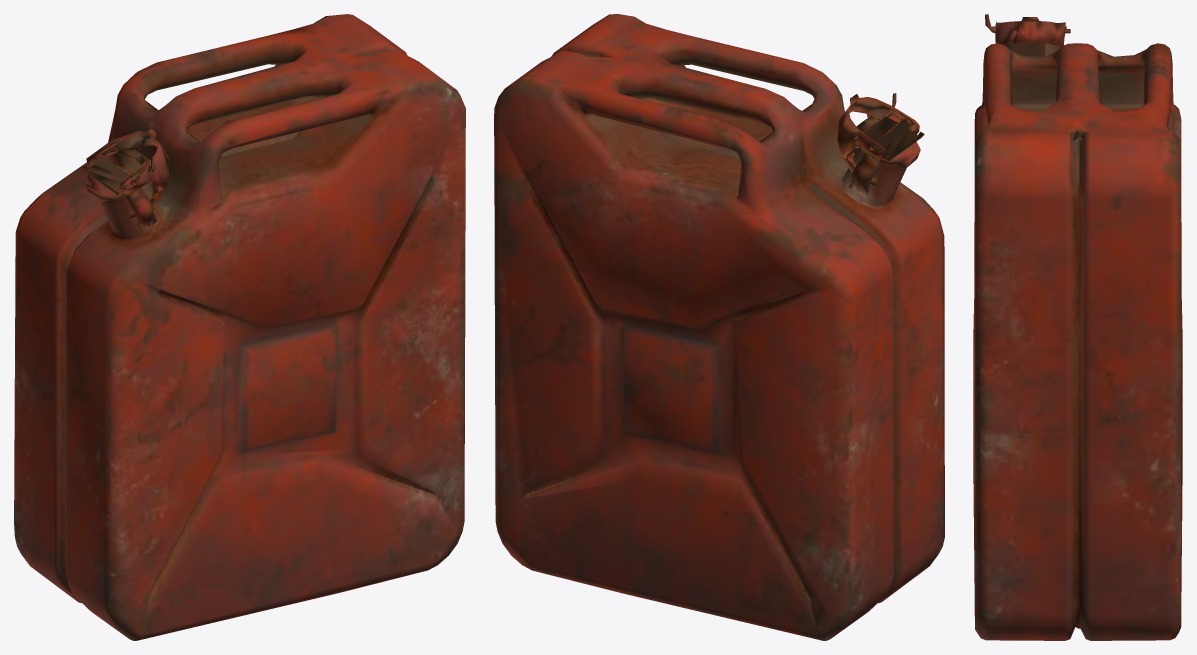
The model's file is metal_jerrycan.glb.
3 renders of one model, left to right at view 1: azimuth 30°, elevation 25°; view 2: azimuth 150°, elevation 25°; view 3: azimuth 270°, elevation 25°, orthographic. The views are drawn at different scales.
Parts seen in each view (by area): view 1: metal_jerrycan; view 2: metal_jerrycan; view 3: metal_jerrycan.
Boxes of the visible parts, box(x1,y1,x2,y2) form: metal_jerrycan: box(14, 14, 465, 640); metal_jerrycan: box(494, 14, 944, 640); metal_jerrycan: box(973, 14, 1182, 640).
Size of the model in its own units: 0.3492 by 0.4548 by 0.1718.
Materials: 1 (1 with a texture image).
